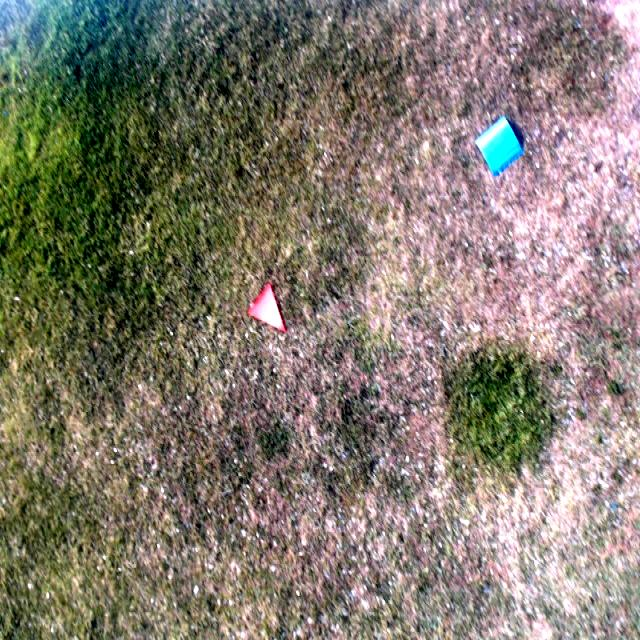blue_square: (476, 116, 523, 174)
red_triangle: (249, 279, 287, 334)
